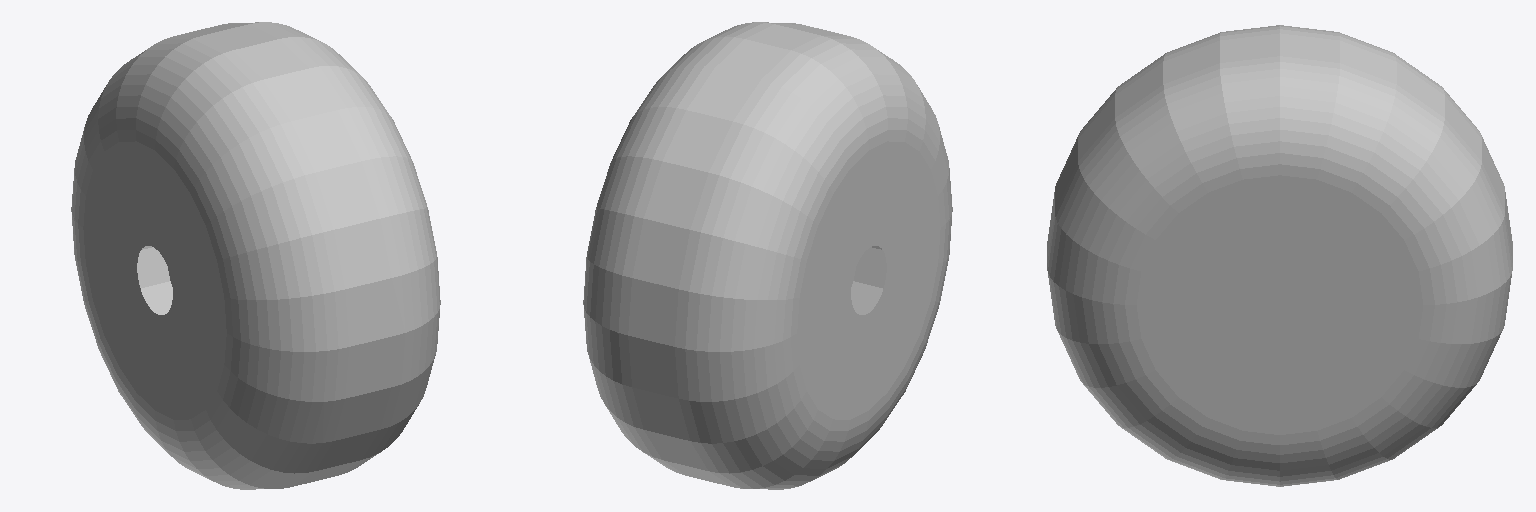
File: original-106.obj
3 views of the same model, side by side, from view 1: azimuth 30°, elevation 25°; view 2: azimuth 150°, elevation 25°; view 3: azimuth 270°, elevation 25° (orthographic).
Parts seen in each view (by area): view 1: #ID684; view 2: #ID684; view 3: #ID684.
Part boxes in pixels (left/top/right/bottom): #ID684: left=71, top=22, right=440, bottom=489; #ID684: left=583, top=22, right=952, bottom=489; #ID684: left=1047, top=25, right=1512, bottom=486.
Bounding box in the file's own units: 0.0196 × 0.0391 × 0.0391.